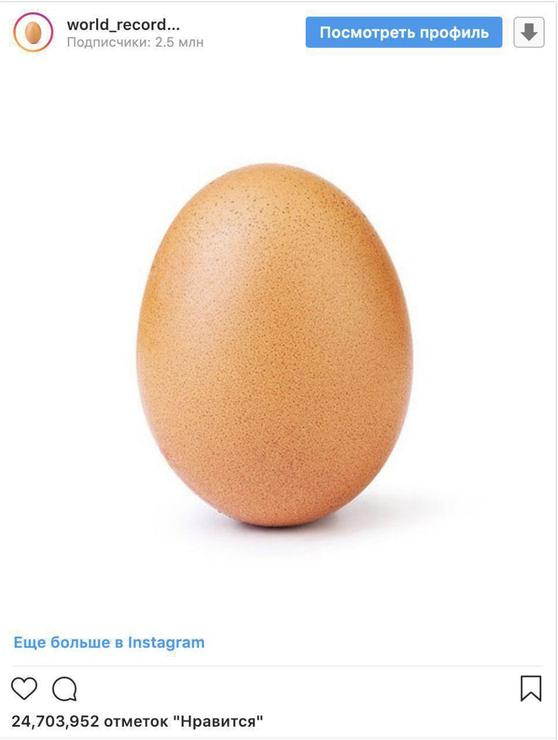egg: (129, 166, 416, 529)
